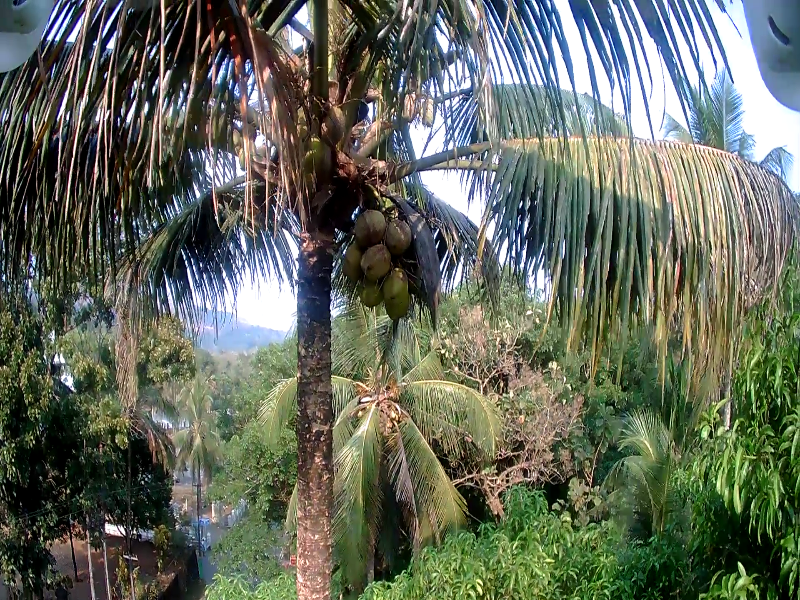coconut: (302, 130, 329, 171), (383, 271, 410, 311), (355, 207, 381, 239), (416, 91, 435, 133), (360, 244, 383, 274), (385, 218, 409, 246), (359, 284, 380, 308), (341, 245, 360, 269), (401, 93, 412, 122)
